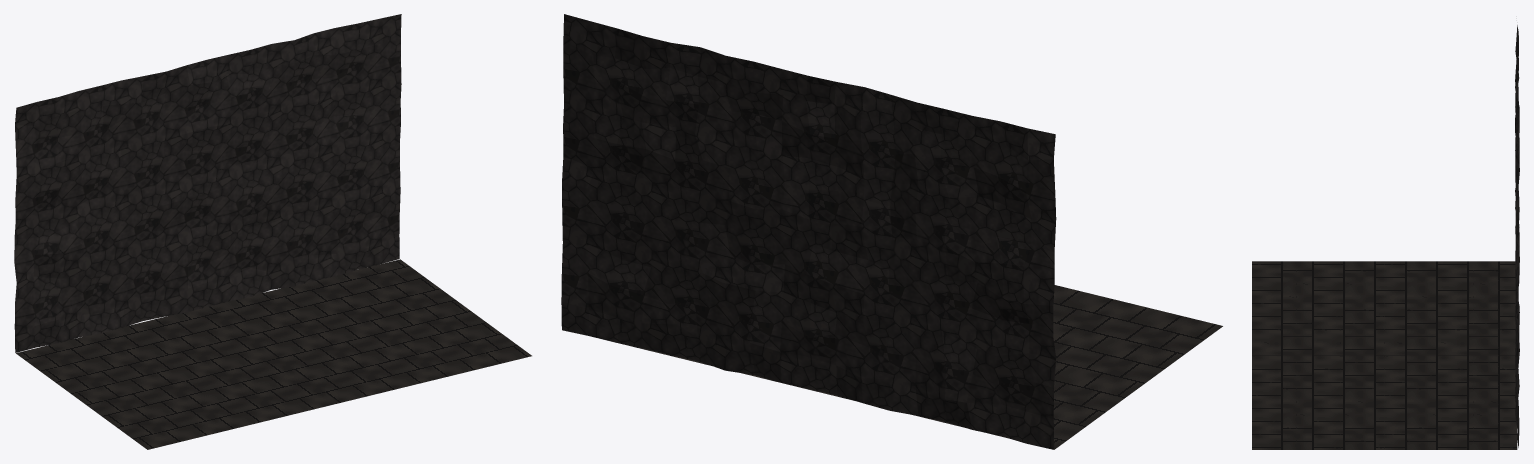
Rendered from wall.glb.
The picture shows the model from 3 angles, left to right: view 1: azimuth 30°, elevation 25°; view 2: azimuth 150°, elevation 25°; view 3: azimuth 270°, elevation 25°; orthographic projection. The views are drawn at different scales.
Parts seen in each view (by area): view 1: Wall, Floor; view 2: Wall, Floor; view 3: Floor, Wall.
Boxes of the visible parts, <box> form: Wall: <box>14,14,401,352</box>; Floor: <box>16,259,531,449</box>; Wall: <box>561,14,1056,449</box>; Floor: <box>622,285,1222,449</box>; Floor: <box>1252,261,1517,449</box>; Wall: <box>1515,25,1519,447</box>.
Bounding box in the file's own units: 7.2 × 4.4 × 4.32.
2 materials, 2 textured.
